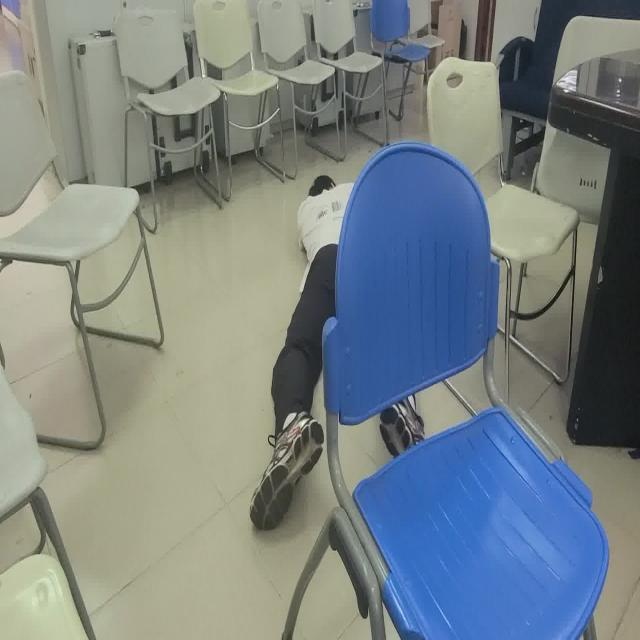Fall-Detected: (245, 170, 430, 529)
